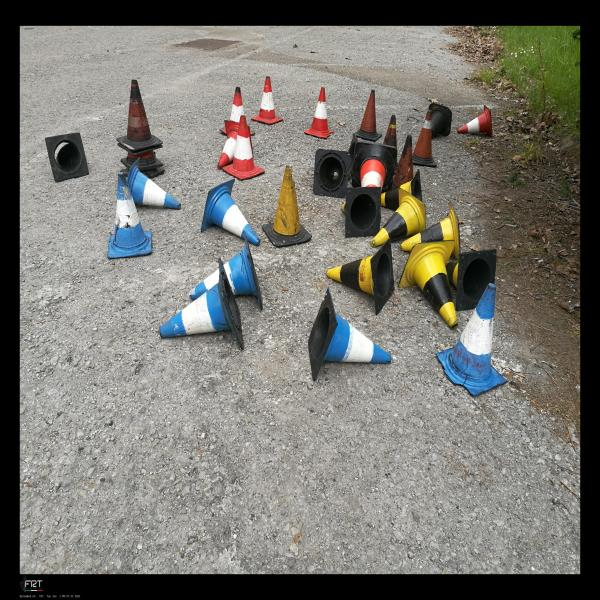blue_cone: (436, 283, 508, 396), (159, 258, 244, 350), (308, 288, 391, 382), (189, 231, 263, 311), (201, 179, 260, 246), (107, 172, 152, 258), (127, 157, 181, 210)
large_orange_cone: (352, 142, 398, 192)
orange_cone: (222, 115, 265, 180), (217, 120, 254, 169), (220, 87, 255, 136), (251, 76, 283, 125), (304, 86, 334, 138), (458, 105, 492, 138)
unknown_cone: (262, 164, 312, 247), (116, 79, 163, 151), (45, 132, 89, 182), (314, 148, 348, 198), (353, 90, 382, 142), (412, 110, 437, 167), (392, 135, 413, 189), (429, 102, 452, 139), (383, 114, 397, 148)
yellow_cone: (399, 240, 458, 330), (326, 238, 395, 314), (401, 201, 460, 260), (371, 188, 425, 247), (446, 249, 496, 311), (341, 187, 381, 237), (381, 169, 422, 209)
